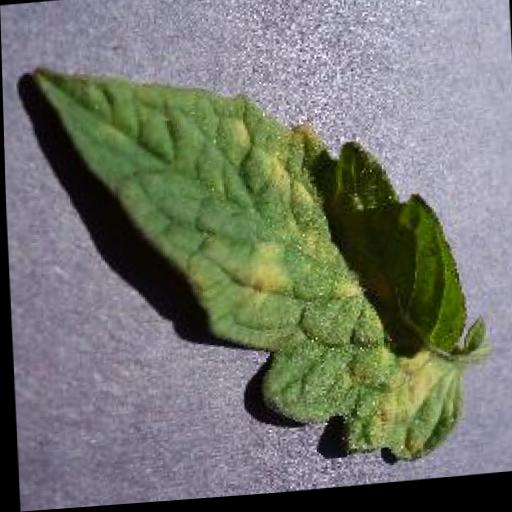Leaf Mold: (28, 34, 469, 496)
